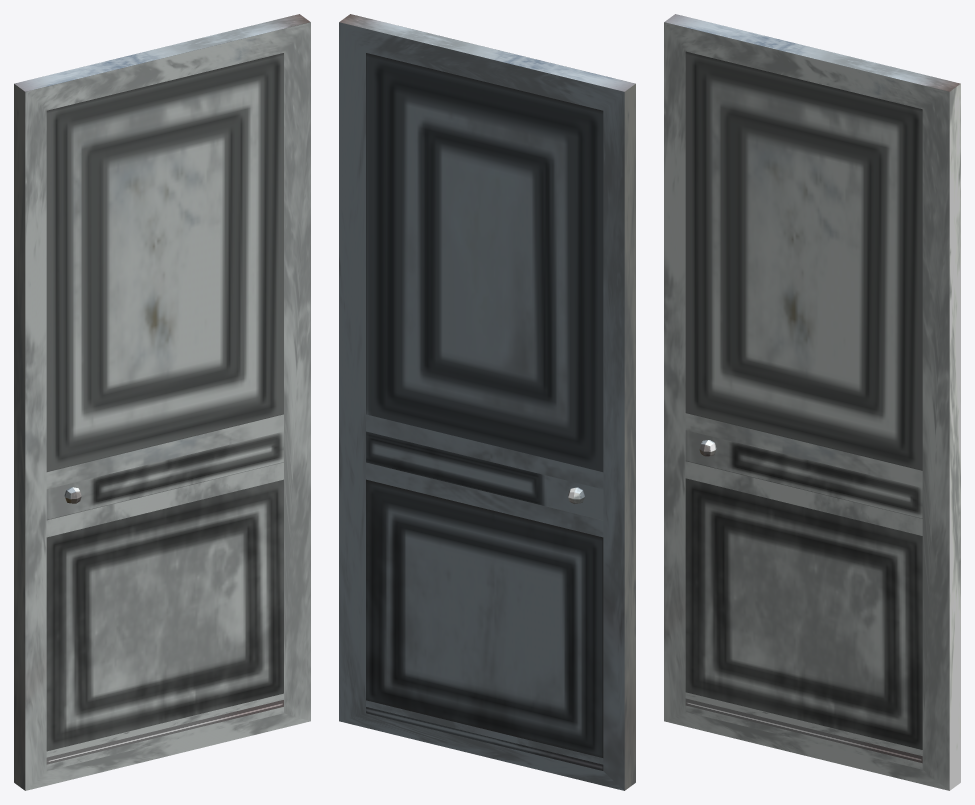
The model's file is porta.fbx.
3 views of the same model, side by side, from view 1: azimuth 30°, elevation 25°; view 2: azimuth 150°, elevation 25°; view 3: azimuth 330°, elevation 25° (orthographic).
Visible parts, largest first — view 1: janela superior frente, porta, janela inferior frente, janela meio frente, topo, janela baixo frente; view 2: janela superior tras, porta, janela inferior tras, janela meio tras, topo, janela baixo tras; view 3: janela superior frente, porta, janela inferior frente, janela meio frente, topo, janela baixo frente.
Boxes of the visible parts, x1,y1,x2,y2 form: janela superior frente: [46, 53, 283, 471]; porta: [14, 22, 310, 790]; janela inferior frente: [46, 479, 283, 751]; janela meio frente: [46, 431, 283, 520]; topo: [14, 14, 310, 91]; janela baixo frente: [46, 700, 283, 764]; janela superior tras: [366, 53, 603, 471]; porta: [339, 22, 635, 790]; janela inferior tras: [366, 479, 603, 757]; janela meio tras: [366, 431, 603, 520]; topo: [339, 14, 635, 91]; janela baixo tras: [366, 707, 603, 770]; janela superior frente: [685, 51, 922, 470]; porta: [664, 22, 960, 790]; janela inferior frente: [685, 478, 922, 749]; janela meio frente: [685, 430, 922, 518]; topo: [664, 14, 960, 91]; janela baixo frente: [685, 698, 922, 763].
Bounding box in the file's own units: 194 × 455 × 28.16.
12 materials, 12 textured.
